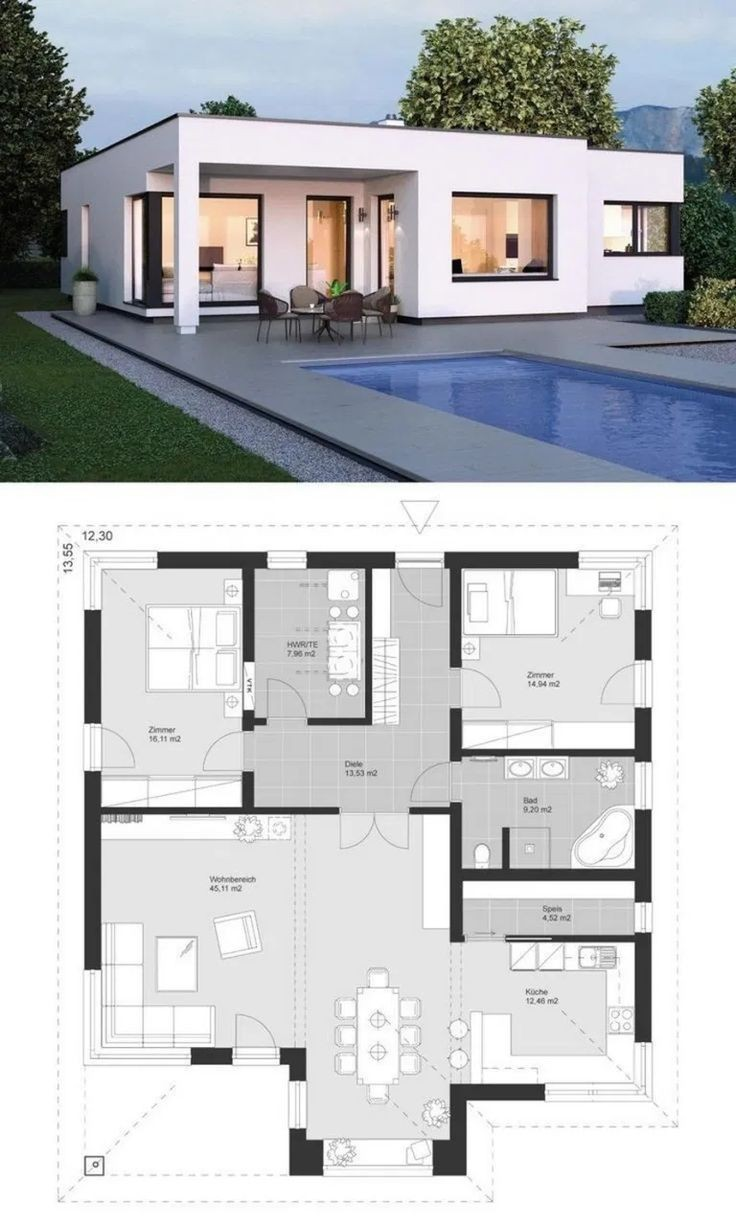door: (331, 797, 425, 867), (583, 645, 666, 723), (387, 545, 451, 616), (198, 711, 251, 786), (220, 1002, 287, 1058), (77, 720, 142, 775), (444, 662, 504, 717), (261, 673, 326, 723)
room: (96, 814, 456, 1056), (90, 543, 263, 820), (455, 934, 678, 1123), (450, 554, 655, 759), (451, 755, 648, 884), (242, 547, 374, 732), (290, 1050, 464, 1176), (243, 719, 459, 819), (456, 868, 653, 954)
wall: (73, 768, 122, 976), (440, 853, 664, 892), (82, 795, 347, 827), (60, 612, 124, 723), (447, 738, 653, 771), (352, 541, 386, 730), (443, 538, 582, 575), (155, 536, 266, 579), (433, 1076, 477, 1181), (305, 534, 394, 585), (622, 808, 665, 907), (624, 928, 659, 1043), (447, 792, 472, 943), (233, 542, 264, 662), (446, 1069, 548, 1104), (444, 543, 472, 669), (307, 702, 383, 745), (617, 704, 661, 766), (500, 930, 660, 947), (278, 1130, 329, 1182), (626, 607, 664, 662), (185, 1042, 238, 1075), (411, 795, 465, 824), (439, 706, 465, 766), (278, 1041, 313, 1084), (233, 767, 264, 815), (234, 710, 269, 733), (500, 821, 512, 872)
window: (66, 1027, 192, 1090), (69, 971, 130, 1075), (77, 523, 157, 584), (543, 1072, 664, 1111), (61, 545, 120, 614), (630, 1033, 672, 1121), (581, 537, 661, 576), (281, 1077, 322, 1134), (625, 538, 657, 608), (259, 536, 312, 577), (627, 756, 663, 814), (620, 897, 661, 932)
